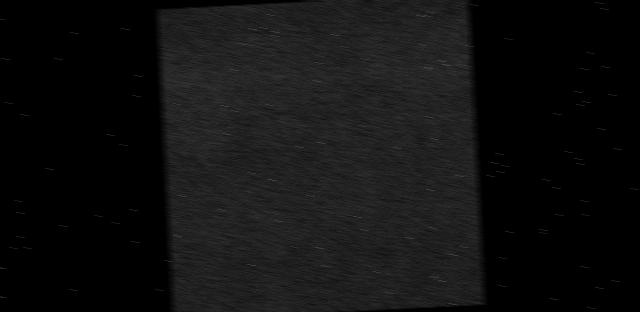water_spot: (157, 0, 468, 35)
